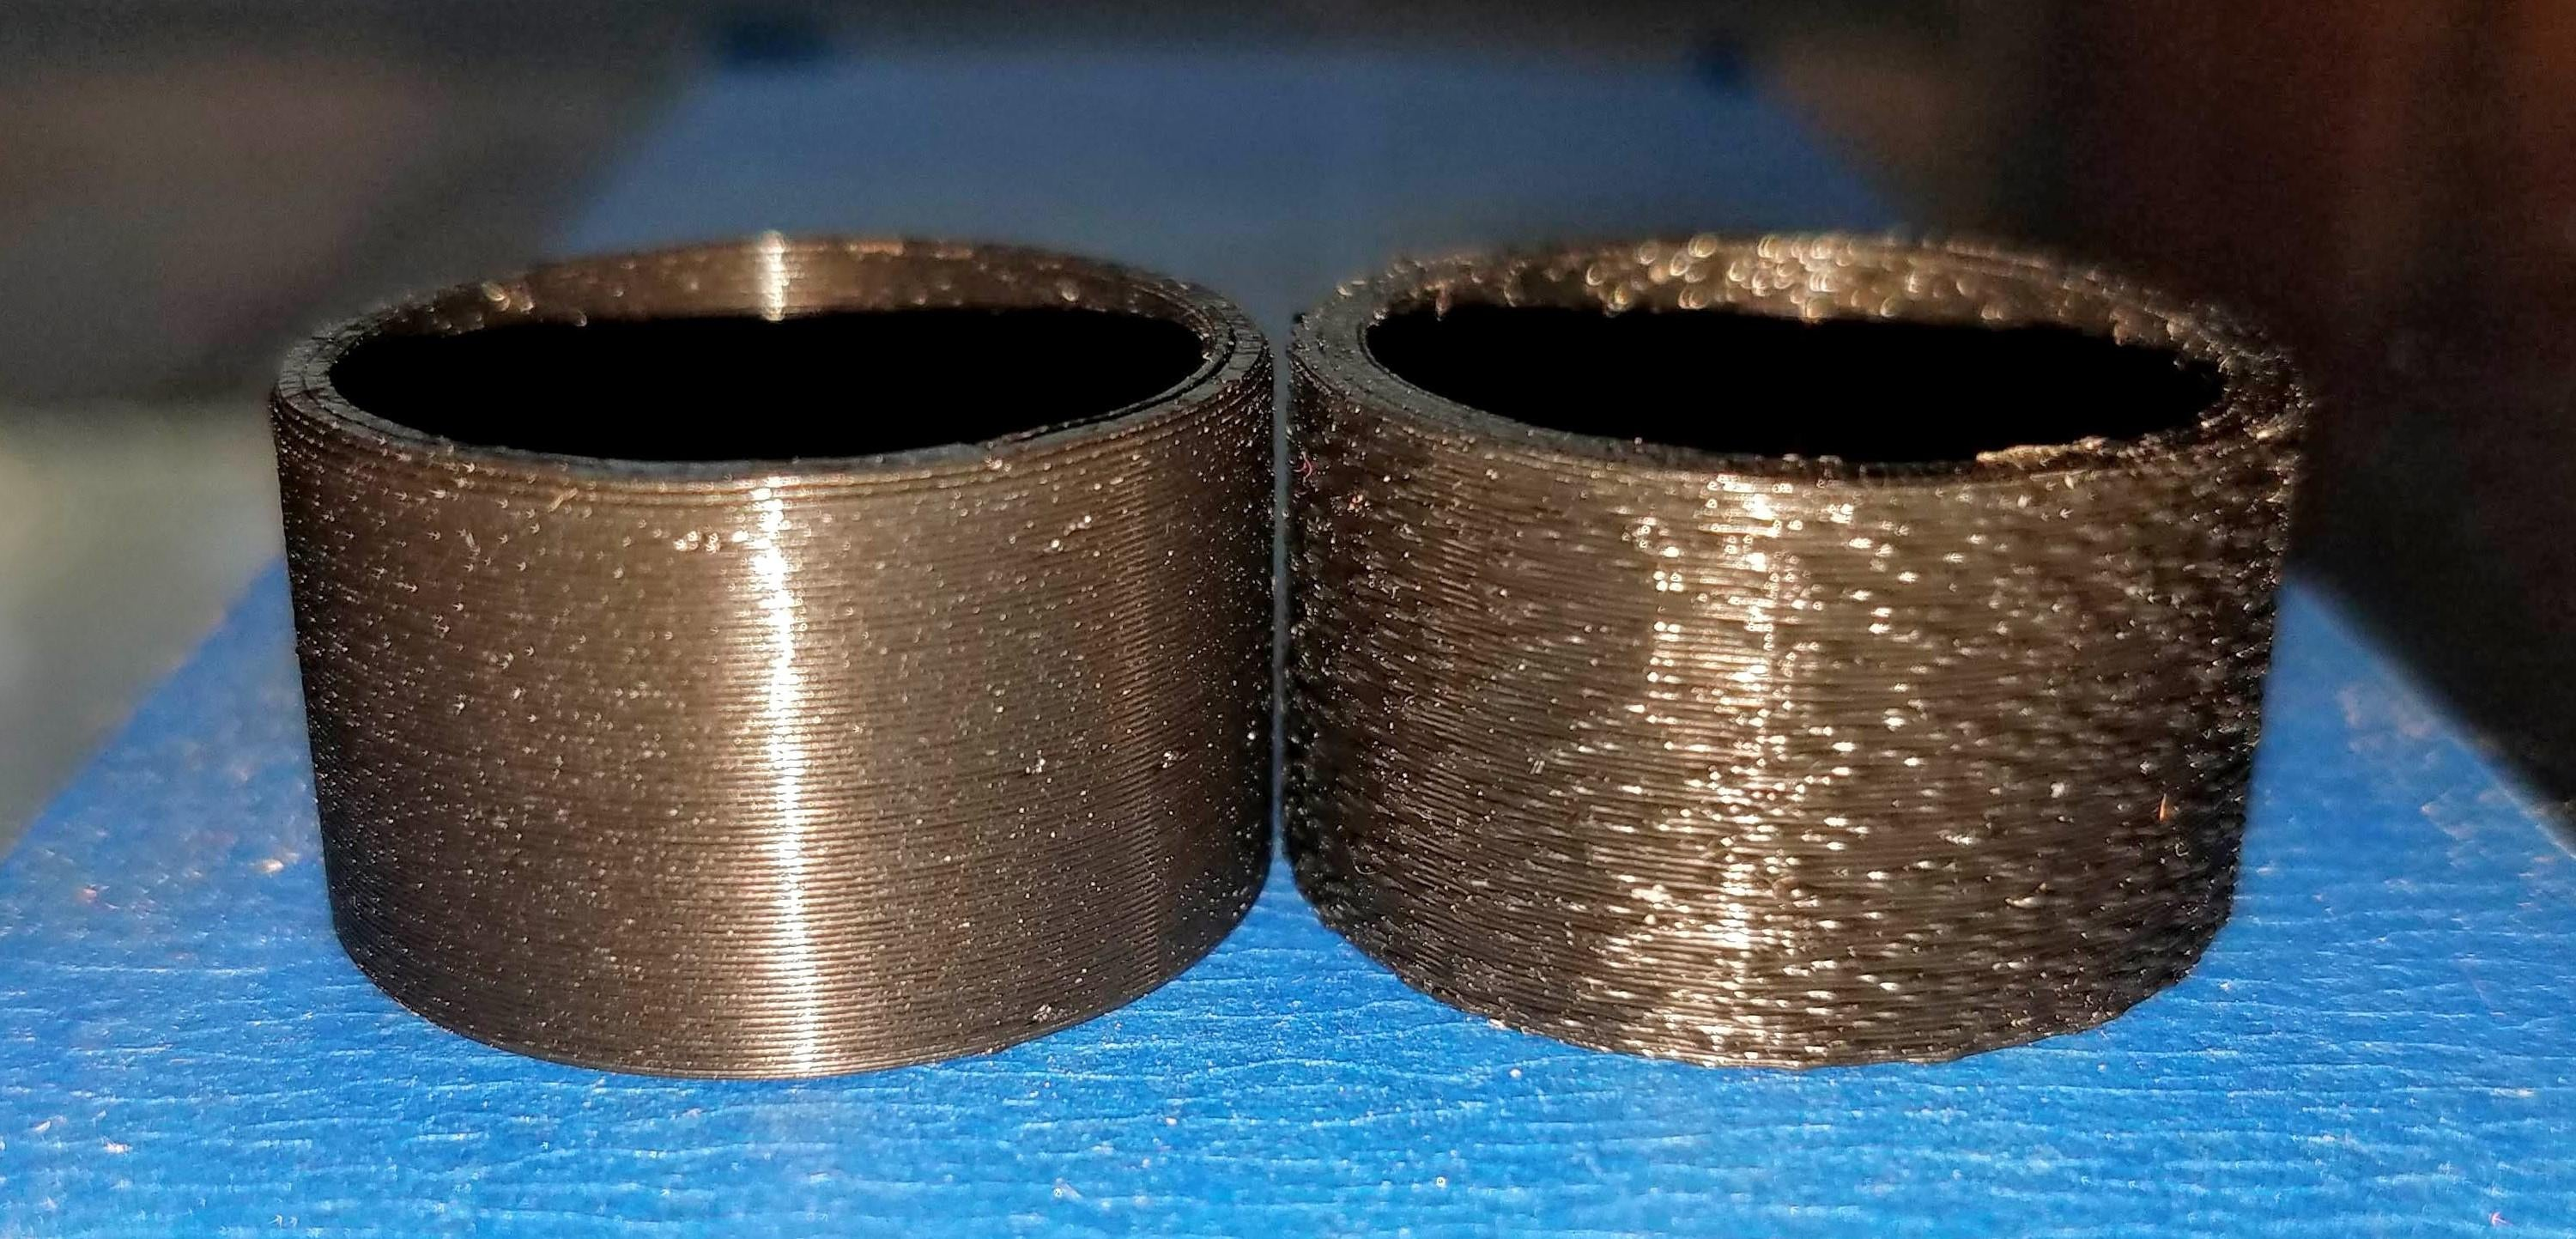blob: (2024, 519, 2208, 940)
